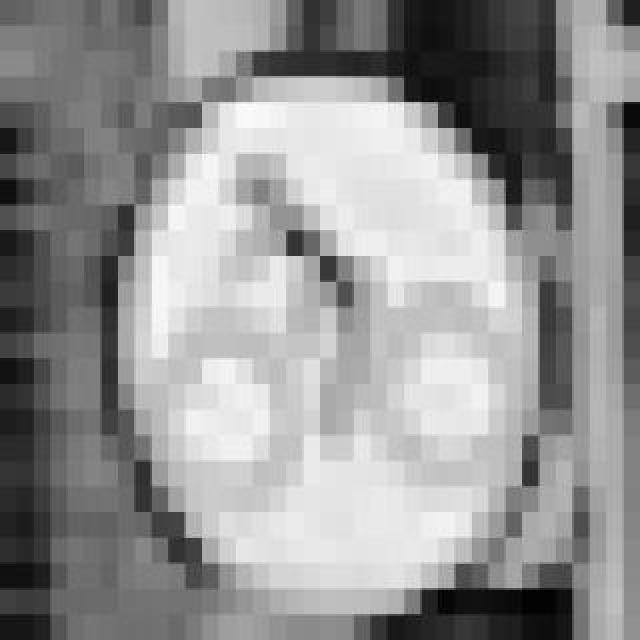bike lane: (84, 26, 540, 590)
